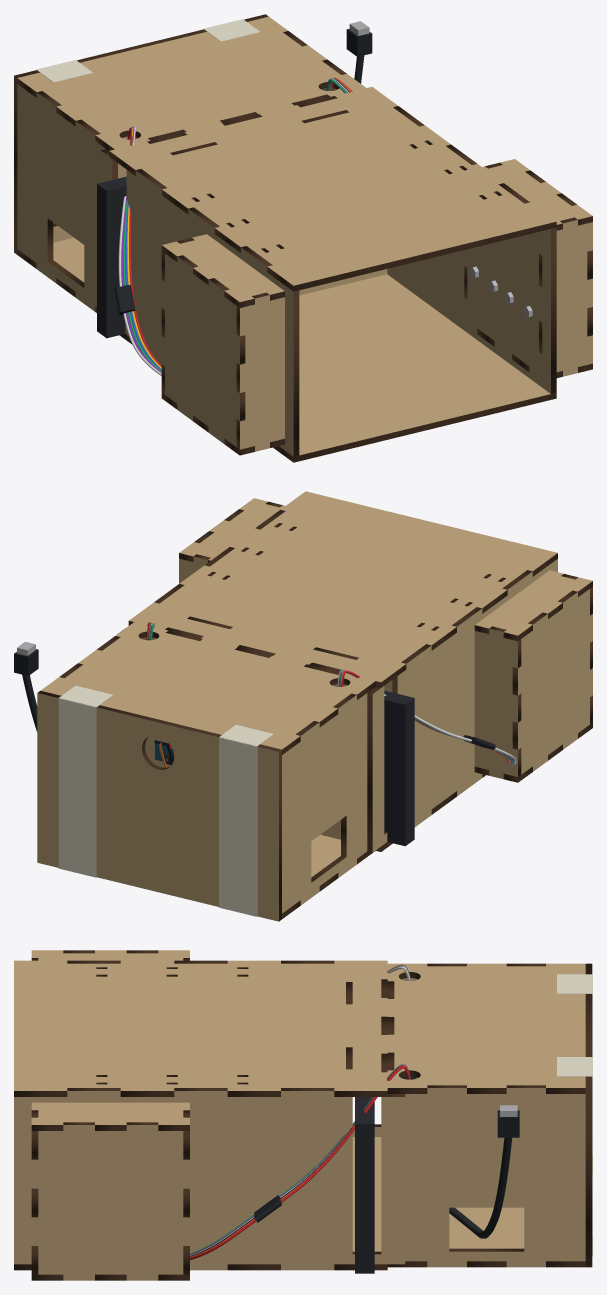
The model's file is ensamble.glb.
The picture shows the model from 3 angles, top to bottom: view 1: azimuth 30°, elevation 25°; view 2: azimuth 150°, elevation 25°; view 3: azimuth 270°, elevation 25°; orthographic projection. The views are drawn at different scales.
Visible parts, largest first — view 1: VISOR TAPA, VISOR BASE, MOCHILA ARRIBA, VISOR LADO DER, MOCHILA IZQ, ASA IZQ FRENTE, VISOR LADO IZQ, ASA IZQ ADELANTE, ASA DER ADELANTE, Teléfono (referencia opcional), ASA IZQ ARRIBA, ASA DER ARRIBA (+7 smaller); view 2: VISOR TAPA, MOCHILA TAPA, MOCHILA ARRIBA, VISOR LADO IZQ, MOCHILA IZQ, ASA IZQ FRENTE, MOCHILA TAPA cinta 2, MOCHILA TAPA cinta 1, ASA IZQ ATRAS, Teléfono (referencia opcional), ASA IZQ ARRIBA, ASA DER ARRIBA (+4 smaller); view 3: VISOR TAPA, VISOR LADO DER, MOCHILA DER, MOCHILA ARRIBA, ASA DER FRENTE, ASA DER ARRIBA, Teléfono (referencia opcional), MOCHILA ABAJO, MOCHILA TAPA, VISOR BASE, ASA IZQ ARRIBA, USB cable del Leonardo (+9 smaller).
Boxes of the visible parts, x1,y1,x2,y2 form: VISOR TAPA: [109, 87, 556, 291]; VISOR BASE: [120, 274, 556, 462]; MOCHILA ARRIBA: [17, 16, 365, 150]; VISOR LADO DER: [387, 106, 556, 393]; MOCHILA IZQ: [17, 84, 105, 311]; ASA IZQ FRENTE: [161, 253, 245, 446]; VISOR LADO IZQ: [100, 149, 299, 456]; ASA IZQ ADELANTE: [236, 292, 284, 451]; ASA DER ADELANTE: [539, 217, 592, 376]; Teléfono (referencia opcional): [97, 176, 126, 338]; ASA IZQ ARRIBA: [161, 234, 284, 307]; ASA DER ARRIBA: [482, 159, 592, 230]; VISOR TAPA: [128, 491, 557, 687]; MOCHILA TAPA: [37, 690, 281, 921]; MOCHILA ARRIBA: [41, 622, 375, 754]; VISOR LADO IZQ: [367, 559, 557, 852]; MOCHILA IZQ: [282, 693, 367, 913]; ASA IZQ FRENTE: [512, 589, 592, 774]; MOCHILA TAPA cinta 2: [58, 698, 96, 877]; MOCHILA TAPA cinta 1: [219, 737, 257, 916]; ASA IZQ ATRAS: [474, 626, 521, 779]; Teléfono (referencia opcional): [117, 628, 414, 846]; ASA IZQ ARRIBA: [474, 570, 592, 641]; ASA DER ARRIBA: [179, 498, 285, 562]; VISOR TAPA: [14, 960, 387, 1096]; VISOR LADO DER: [14, 1088, 405, 1270]; MOCHILA DER: [405, 1085, 585, 1267]; MOCHILA ARRIBA: [387, 963, 585, 1093]; ASA DER FRENTE: [31, 1122, 189, 1280]; ASA DER ARRIBA: [31, 1102, 189, 1130]; Teléfono (referencia opcional): [355, 1097, 374, 1273]; MOCHILA ABAJO: [387, 1207, 585, 1267]; MOCHILA TAPA: [585, 963, 592, 1267]; VISOR BASE: [14, 1137, 387, 1270]; ASA IZQ ARRIBA: [31, 950, 189, 960]; USB cable del Leonardo: [449, 1137, 511, 1238].
Size of the model in its own units: 200 by 95.47 by 263.
